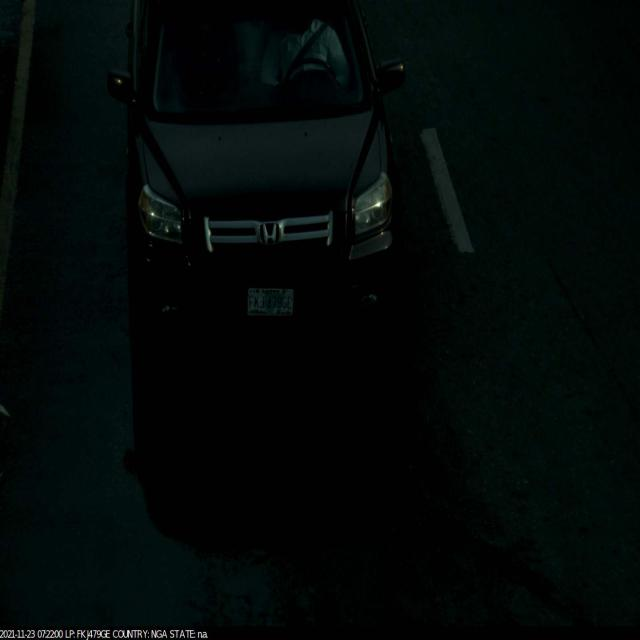windshield: (147, 7, 381, 132)
